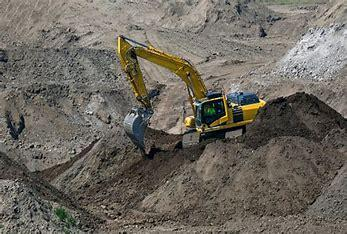excavator: (118, 31, 261, 137)
